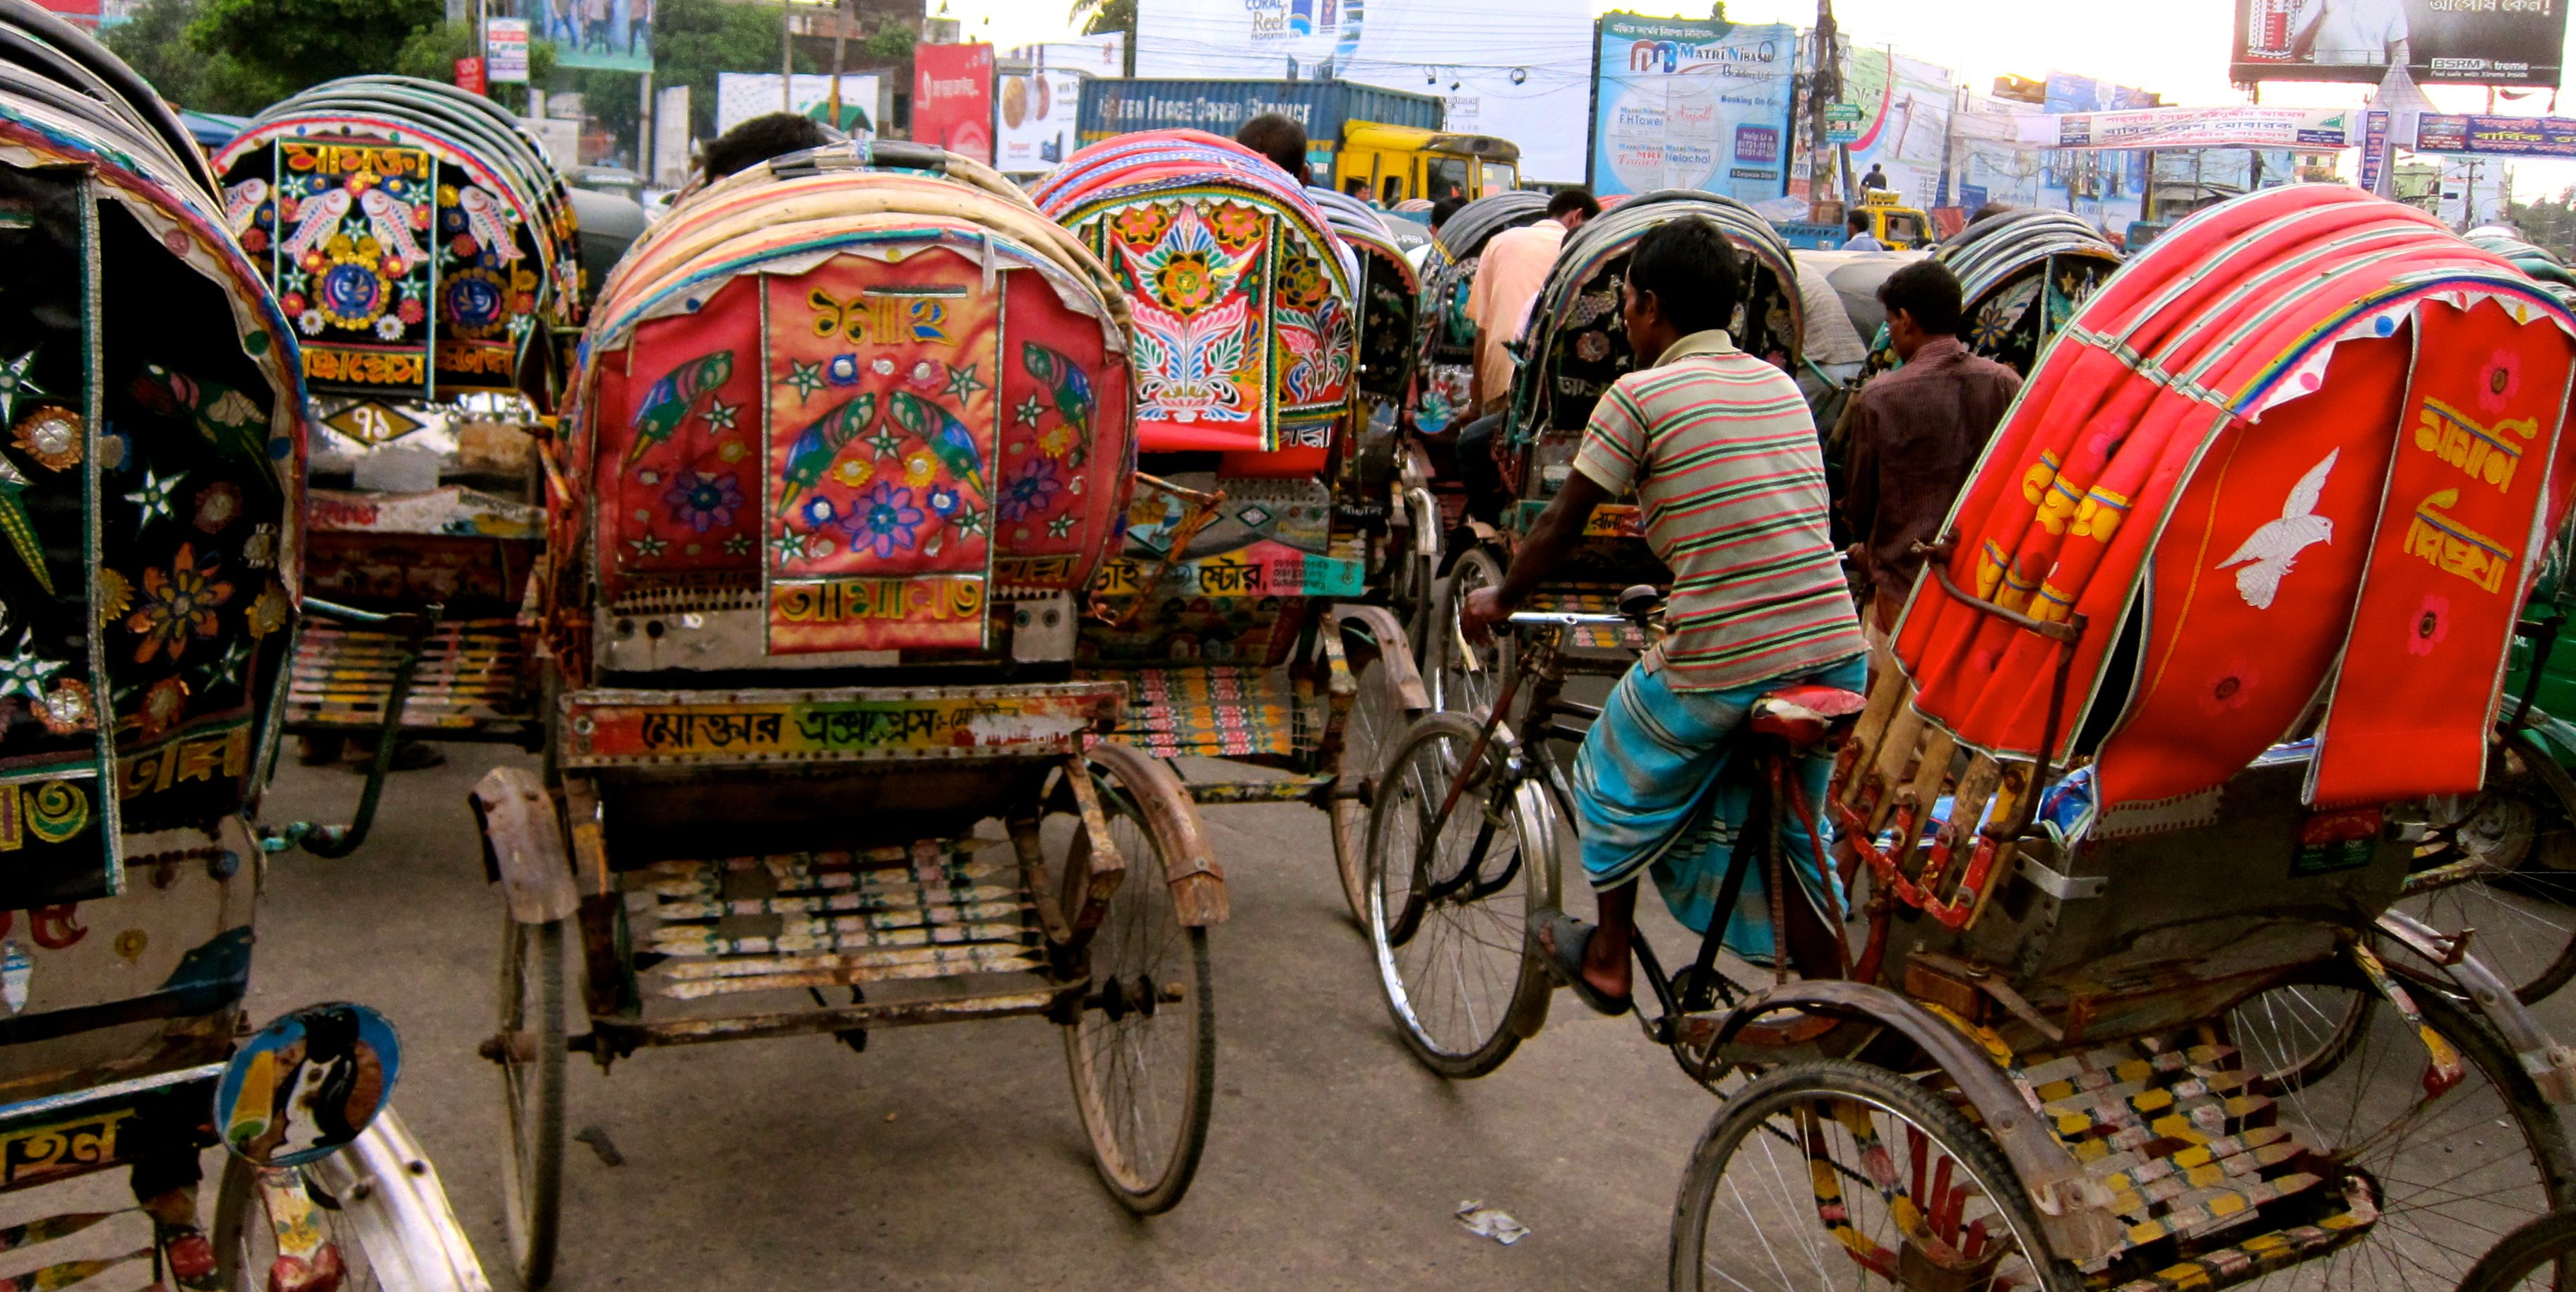Rickshaw: (1365, 79, 2541, 1290), (550, 132, 1243, 1216), (5, 13, 433, 1290), (1038, 64, 1422, 1055), (222, 71, 582, 793), (1508, 153, 1777, 798), (1917, 143, 2121, 506)
